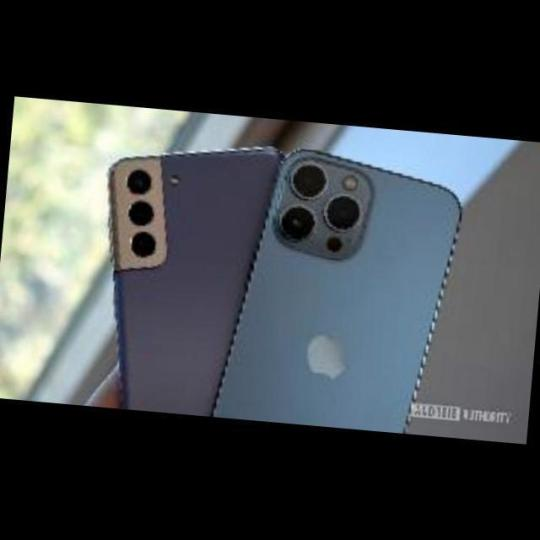phone: (224, 144, 463, 446), (112, 148, 278, 437)
